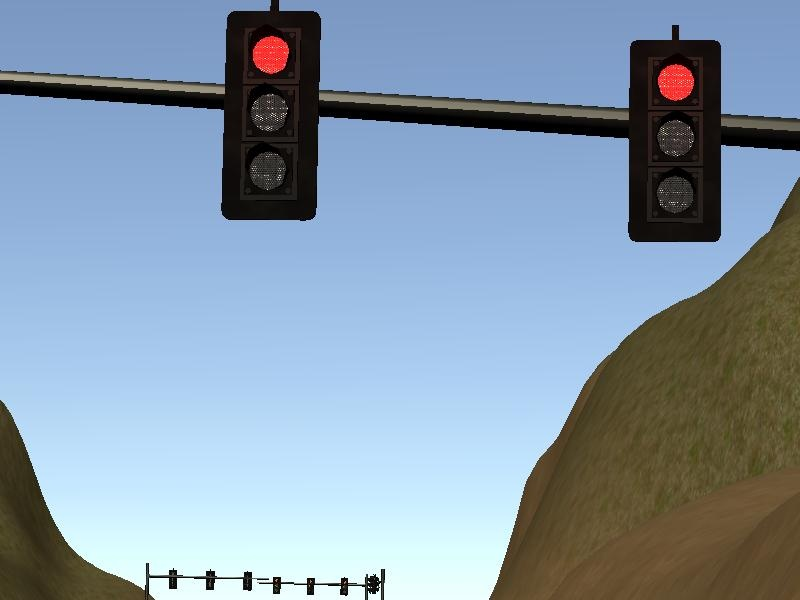red: (214, 4, 331, 228), (619, 24, 733, 253)
